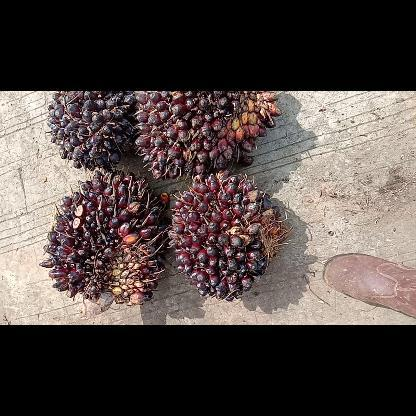TBS mentah: (38, 169, 172, 313), (167, 169, 292, 303), (130, 91, 282, 183), (45, 90, 137, 172)
